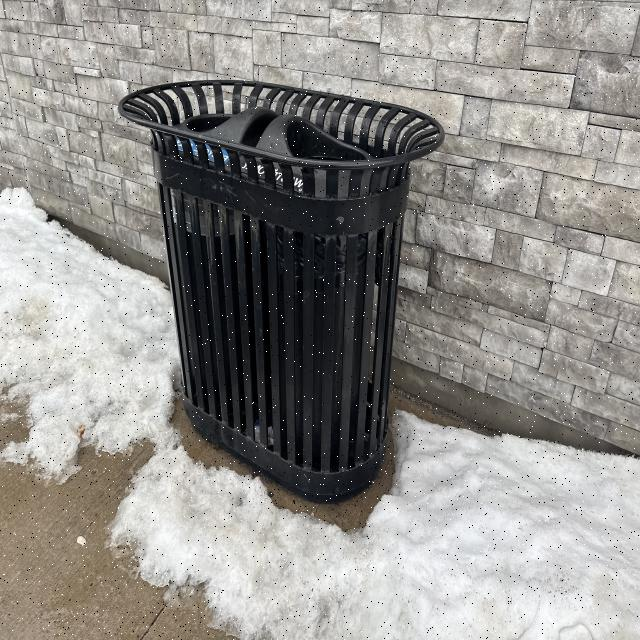Dustbin: (117, 78, 443, 504)
